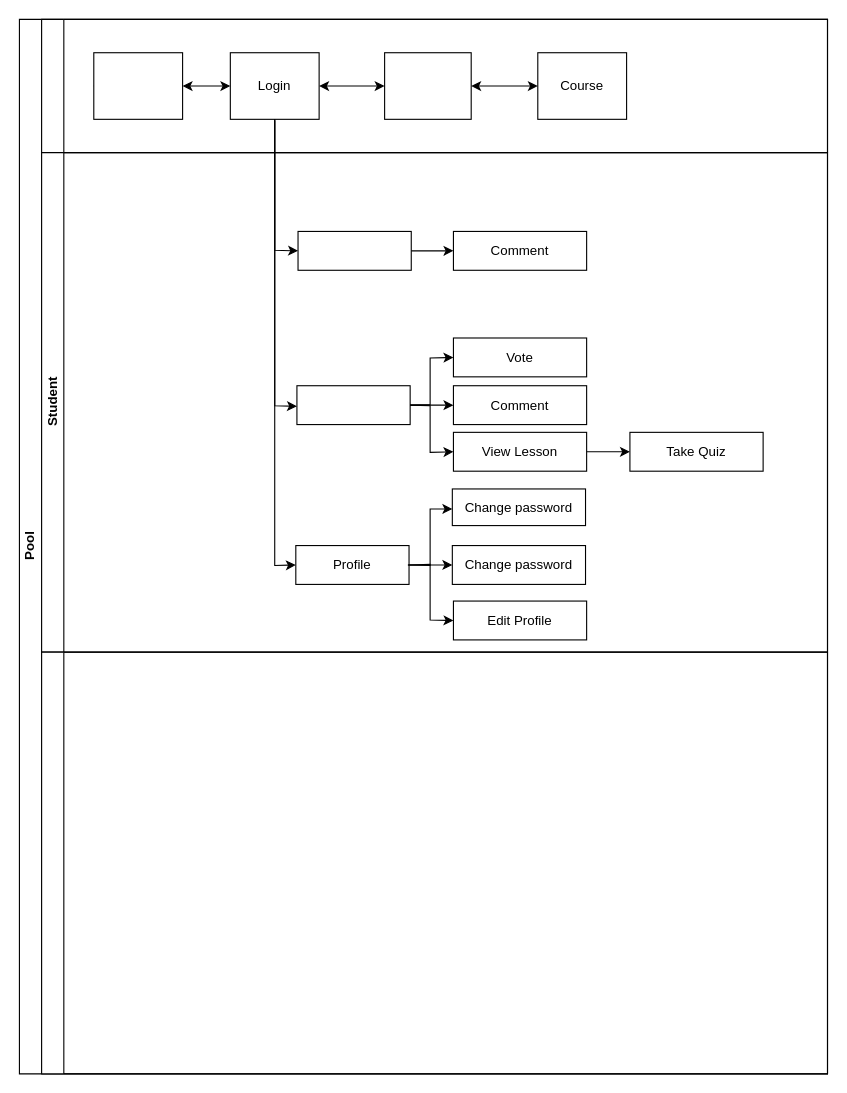
This 847x1093 diagram has some shape labels left out. Here are the shapes that lost their labels. From the top down, the box of each, then its label:
(93, 52, 183, 119): Register
(384, 52, 471, 119): Home
(41, 18, 828, 153): Guest
(297, 230, 411, 270): Blog
(296, 385, 410, 425): View Course
(41, 651, 828, 1074): Admin
